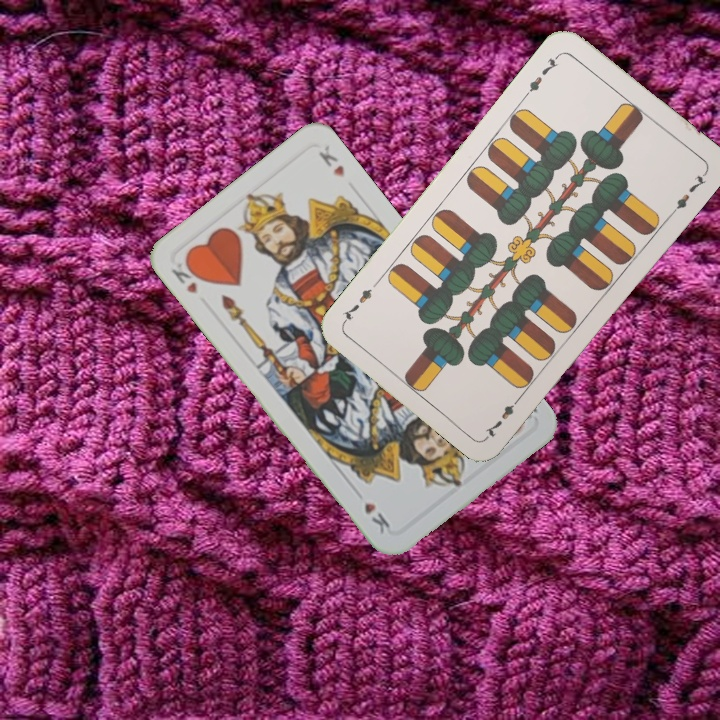E7: (481, 391, 525, 440), (521, 49, 563, 99)
HK: (167, 258, 200, 297)
